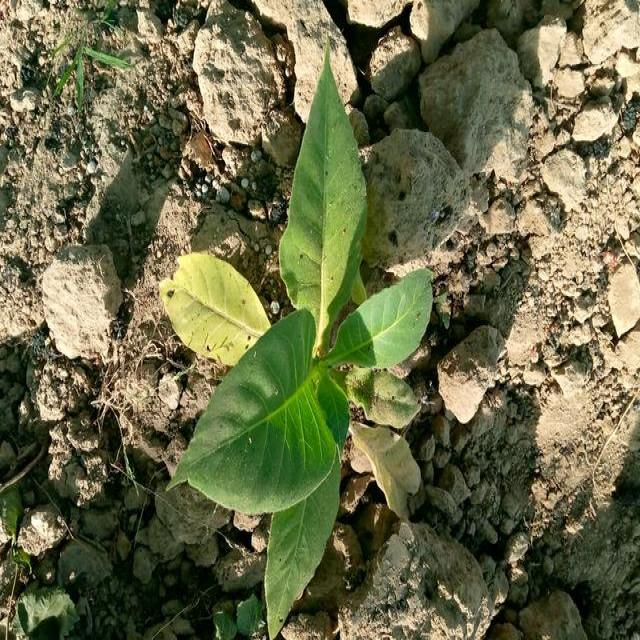crop: (158, 54, 436, 640)
